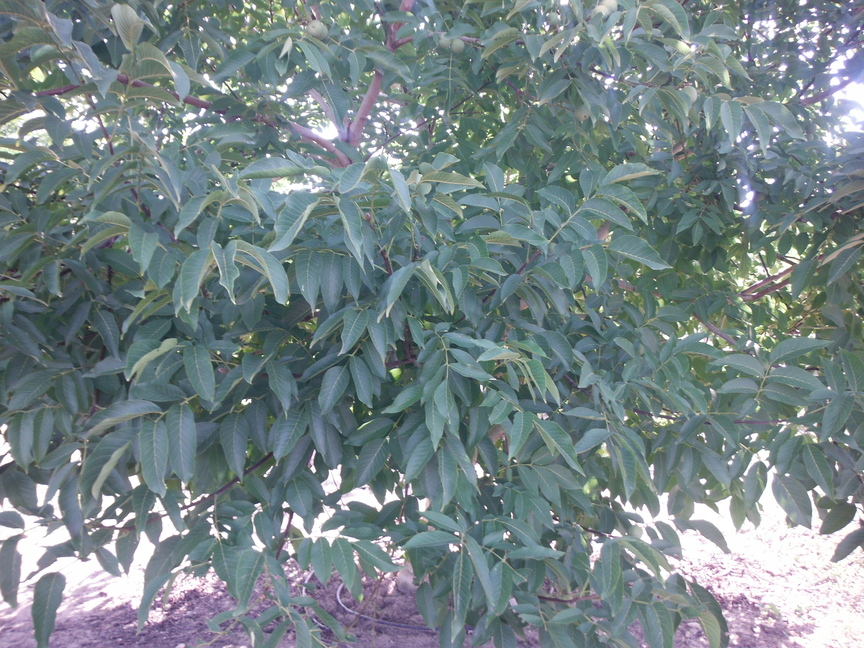walnut: (679, 83, 702, 108), (588, 4, 610, 24), (306, 15, 324, 39), (573, 104, 592, 124), (437, 29, 454, 50), (544, 10, 561, 28), (451, 37, 468, 54), (601, 0, 618, 16), (545, 240, 561, 255), (318, 23, 330, 42), (627, 525, 643, 539), (804, 121, 819, 135), (801, 131, 814, 144), (635, 344, 646, 356)
